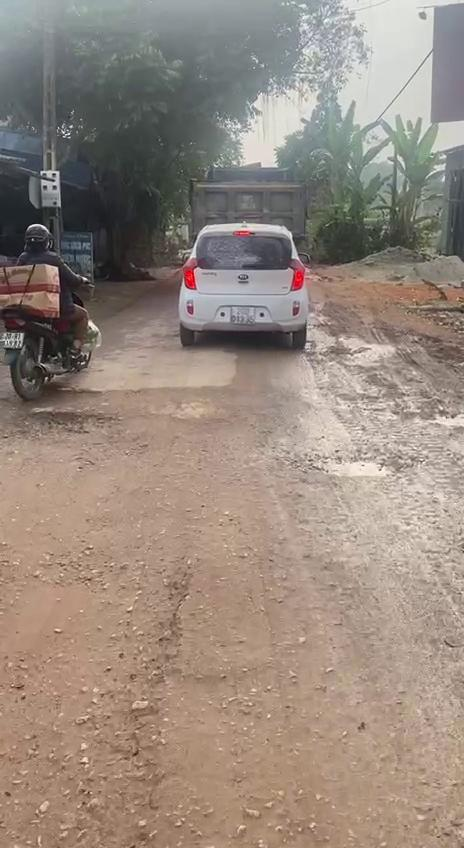pothole: (0, 550, 195, 848), (10, 405, 119, 448), (308, 449, 412, 490)
